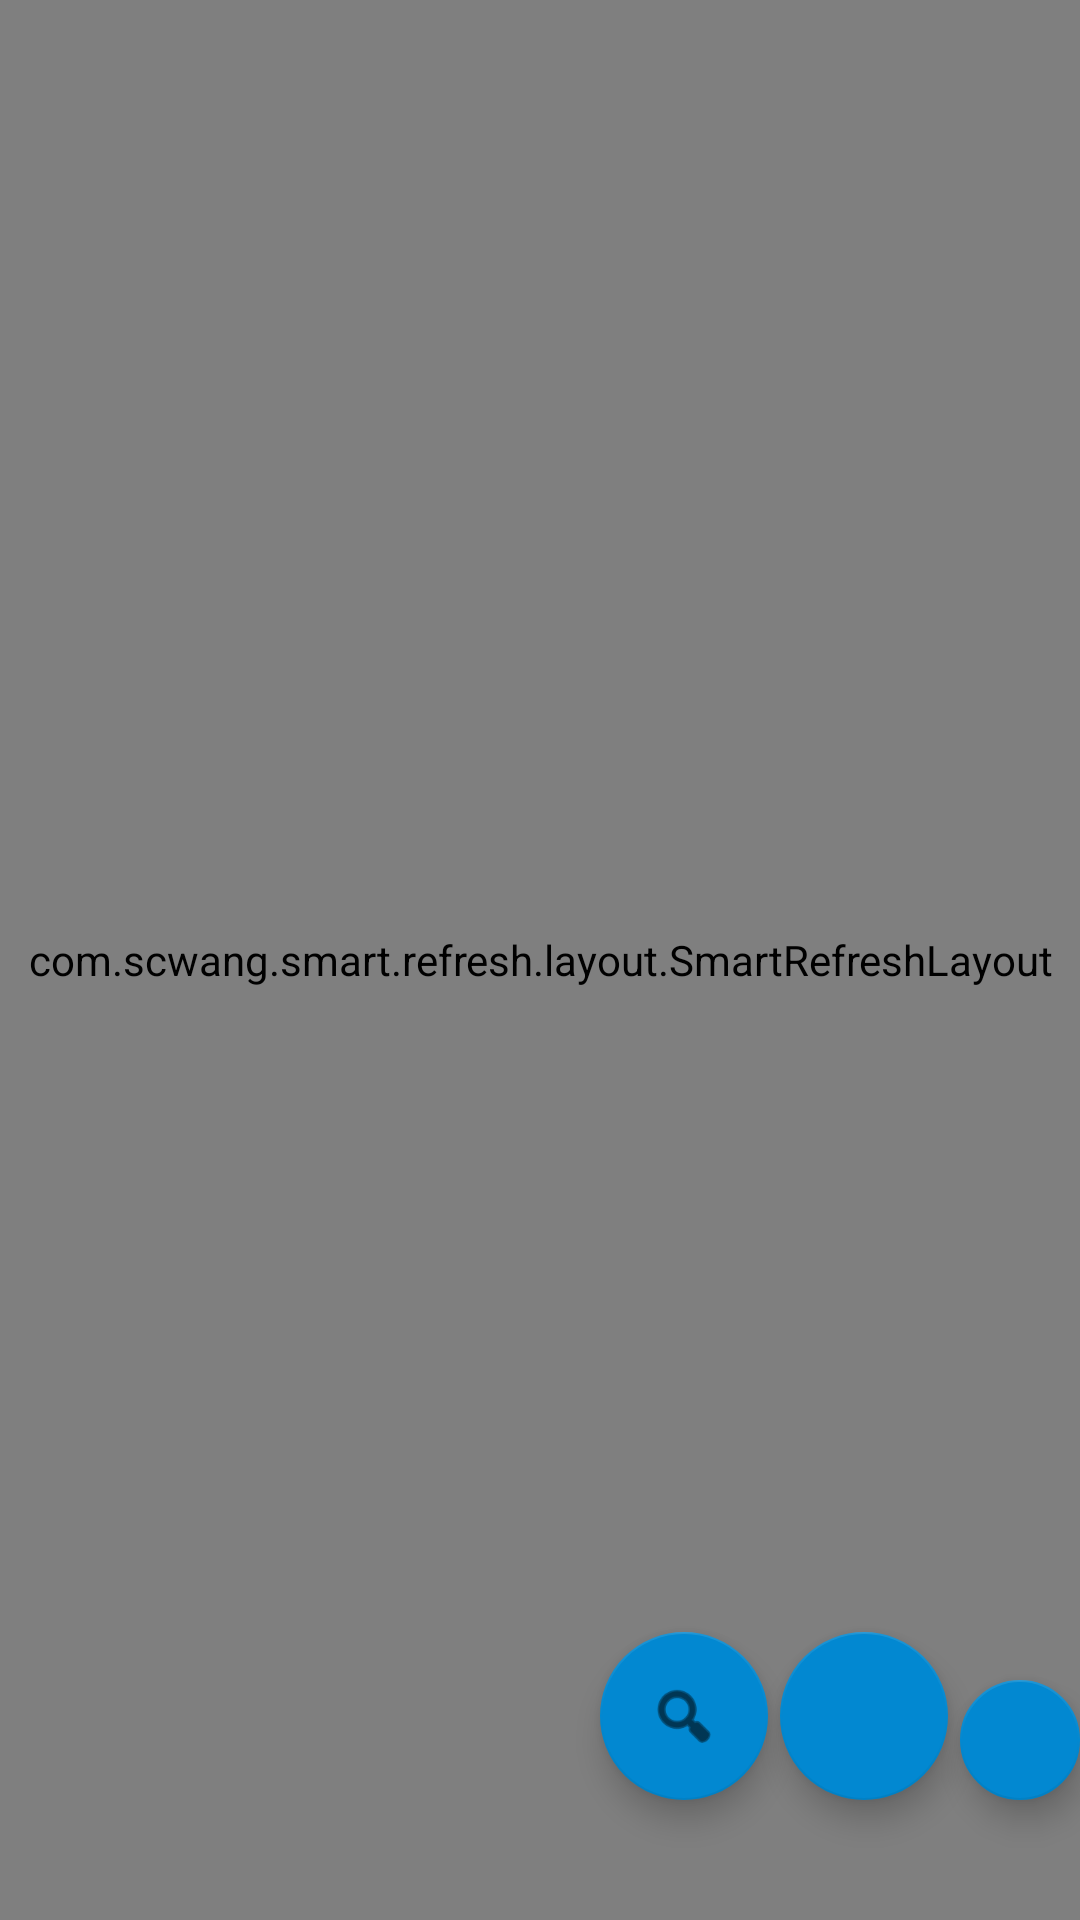

Where icons sit on this 1080px×1920px app screen, as {"x1": x1, "y1": y1, "x2": x2, "y2": y2}:
search: {"x1": 600, "y1": 1632, "x2": 768, "y2": 1800}
